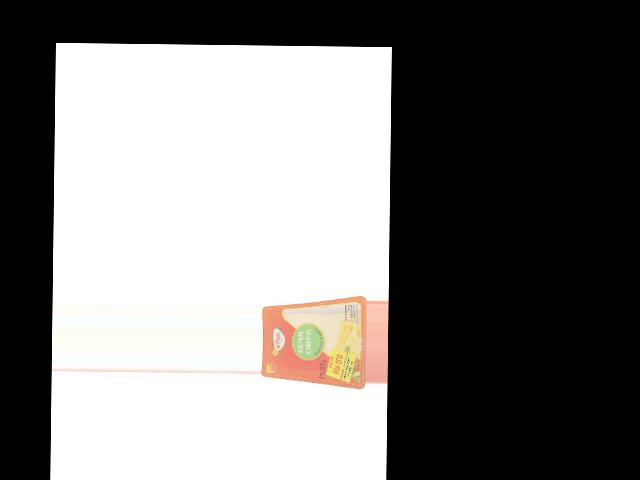cheese: (261, 295, 367, 389)
